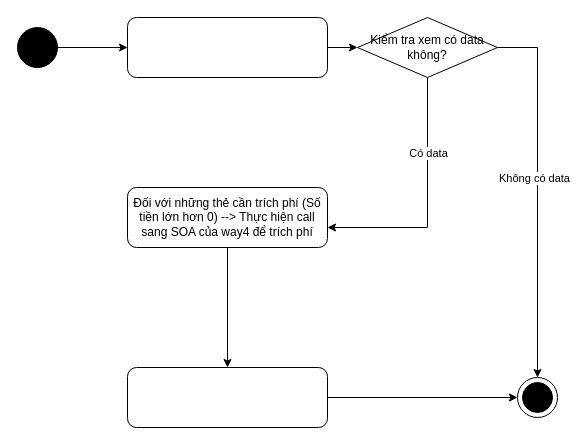
Image size: 587x445. Some labels were removed from this diagram. Each missing label, with the centre of its shape:
Cập nhật thông tin kết quả thu phí vào database (Bảng SmsCardFee): the point at 227,397
Lấy data cần xử lý ở bảng SmsCardFee. Theo ngày job chạy: the point at 227,47
